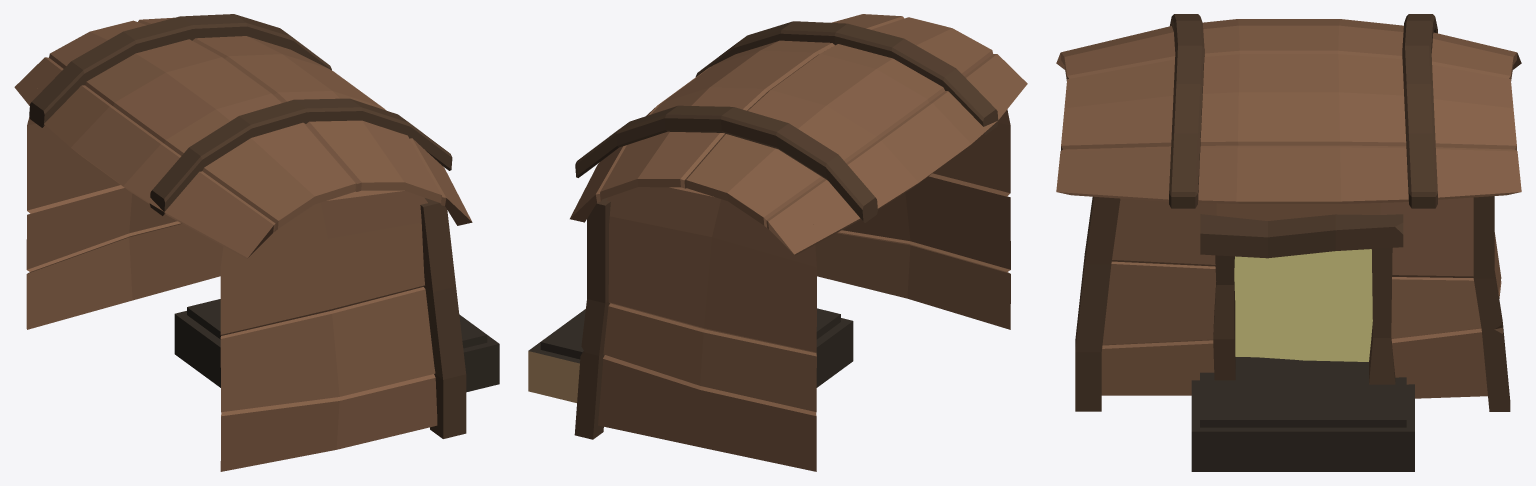
File: Shop_RDC_entrance.fbx
3 views of the same model, side by side, from view 1: azimuth 30°, elevation 25°; view 2: azimuth 150°, elevation 25°; view 3: azimuth 270°, elevation 25° (orthographic).
Parts seen in each view (by area): view 1: Shop_RDC_entrance; view 2: Shop_RDC_entrance; view 3: Shop_RDC_entrance.
Part boxes in pixels (box(x1,y1,x2,y2)): Shop_RDC_entrance: box(14, 14, 499, 471); Shop_RDC_entrance: box(528, 14, 1027, 471); Shop_RDC_entrance: box(1056, 14, 1521, 471).
Size of the model in its own units: 257 by 229 by 294.
